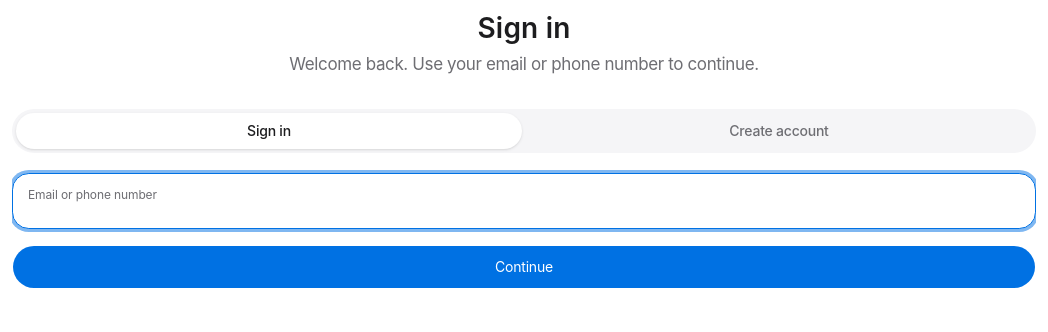
Test: SignInFlow with a phone number › waits before a code can be sent again
Type "+1 415 555 2671" into the field labelled "Email or phone number" at {"x": 524, "y": 201}, box [12,173,1036,229]
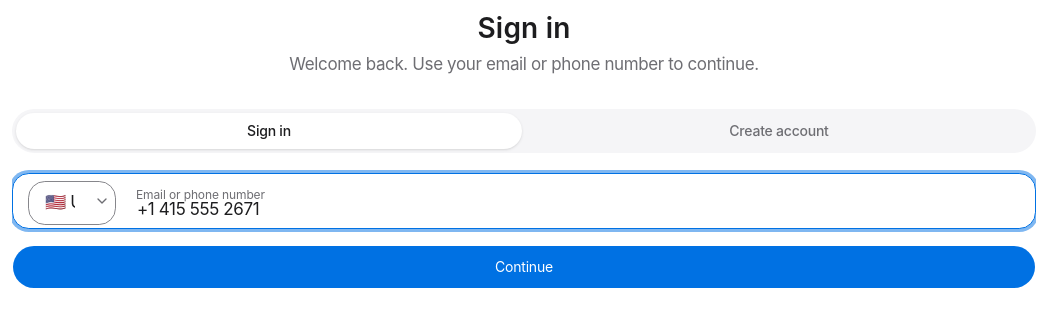
Click the button "Continue" at {"x": 524, "y": 267}, box [12,245,1036,289]
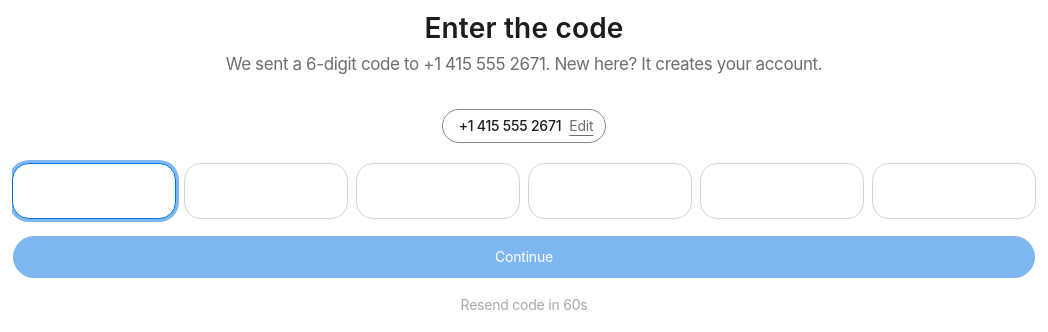
Expected: the button "Resend code in 60s" is disabled, [461,295,587,315]
